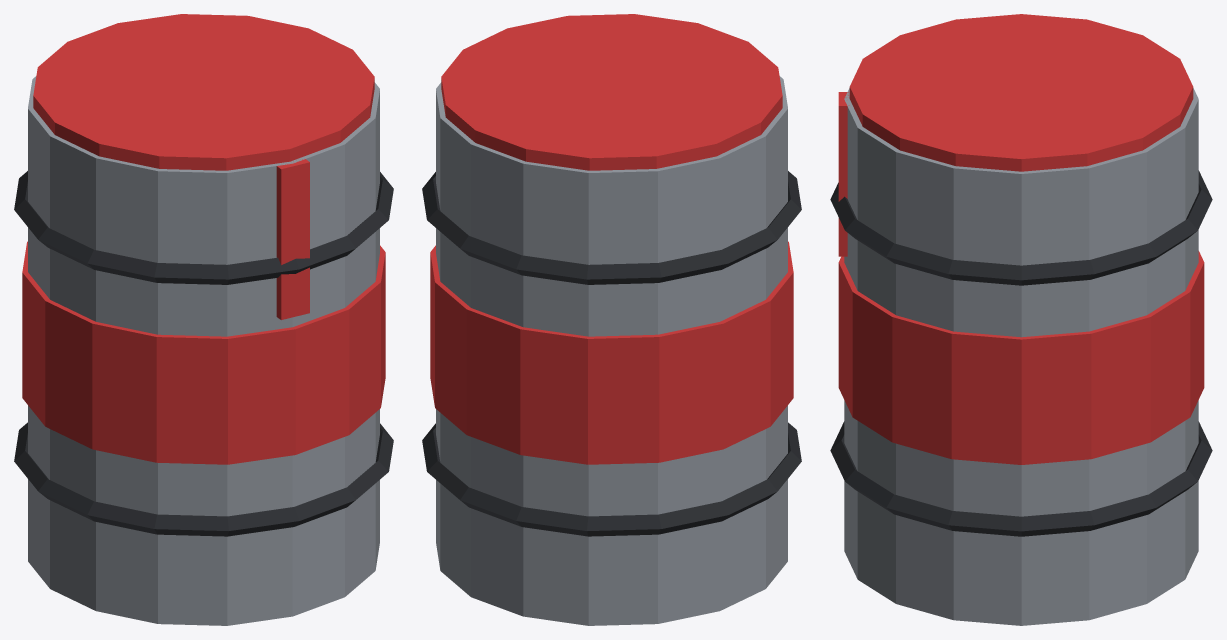
File: ink_barrel_red.glb
3 renders of one model, left to right at view 1: azimuth 30°, elevation 25°; view 2: azimuth 150°, elevation 25°; view 3: azimuth 270°, elevation 25°, orthographic.
Parts seen in each view (by area): view 1: drum_press_steel, band_ink_ink_barrel_red, lid_ink_ink_barrel_red, hoop_press_dark (×2), drip_ink_ink_barrel_red; view 2: drum_press_steel, band_ink_ink_barrel_red, lid_ink_ink_barrel_red, hoop_press_dark (×2); view 3: drum_press_steel, band_ink_ink_barrel_red, lid_ink_ink_barrel_red, hoop_press_dark (×2), drip_ink_ink_barrel_red.
Boxes of the visible parts, x1,y1,x2,y2 form: drum_press_steel: (28, 76, 379, 625); band_ink_ink_barrel_red: (22, 241, 385, 464); lid_ink_ink_barrel_red: (33, 14, 374, 170); hoop_press_dark (×2): (14, 171, 393, 536); drip_ink_ink_barrel_red: (276, 159, 309, 319); drum_press_steel: (436, 76, 787, 625); band_ink_ink_barrel_red: (430, 241, 793, 464); lid_ink_ink_barrel_red: (441, 14, 782, 170); hoop_press_dark (×2): (422, 171, 801, 536); drum_press_steel: (844, 88, 1198, 625); band_ink_ink_barrel_red: (838, 251, 1204, 464); lid_ink_ink_barrel_red: (849, 14, 1193, 171); hoop_press_dark (×2): (830, 170, 1212, 536); drip_ink_ink_barrel_red: (838, 92, 849, 256).
Size of the model in its own units: 0.69 by 0.925 by 0.69.
